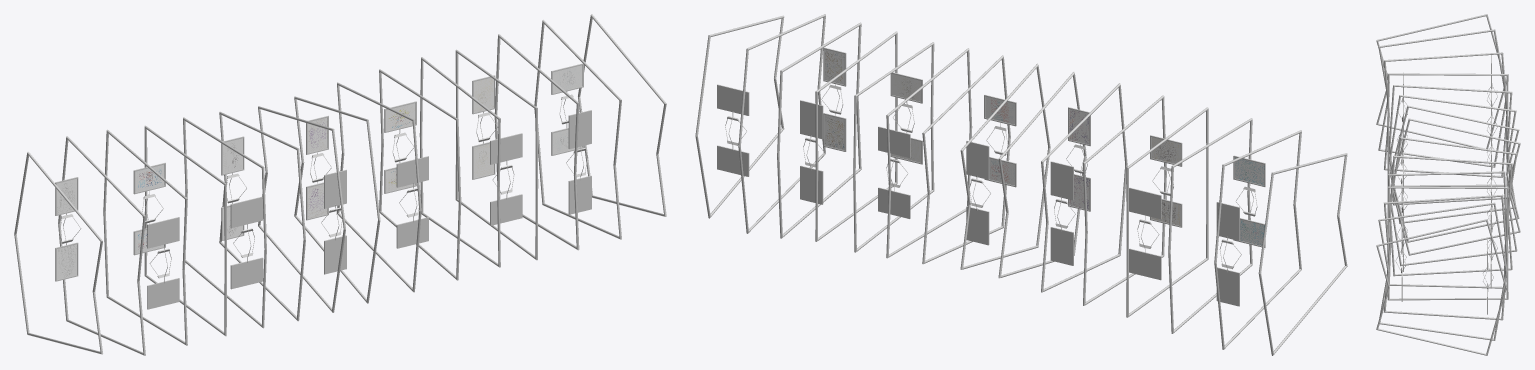
3 views of the same model, side by side, from view 1: azimuth 30°, elevation 25°; view 2: azimuth 150°, elevation 25°; view 3: azimuth 270°, elevation 25° (orthographic). The views are drawn at different scales.
Parts seen in each view (by area): view 1: Union.102_ID812, Union.095_ID755, Union.088_ID698, Union.081_ID641, Union.003_ID28, Union.001_ID14, Union.074_ID586, Union.078_ID614, Union.079_ID621, Union.075_ID593, Union.041_ID318, Union.002_ID21 (+21 smaller); view 2: Union.052_ID407, Union.066_ID528, Union.059_ID464, Union.077_ID607, Union.004_ID35, OuterShell_ID508, Union.074_ID586, Union.073_ID579, Union.075_ID593, Union.076_ID600, Union.072_ID572, Union.001_ID14 (+23 smaller); view 3: Union.073_ID579, Union.072_ID572, Union.001_ID14, Union.004_ID35, Union.079_ID621, Union.078_ID614, Union.002_ID21, Union.003_ID28, Union.075_ID593, Union.077_ID607, Union.041_ID318, Union.076_ID600 (+3 smaller).
Boxes of the visible parts, x1,y1,x2,y2 form: Union.102_ID812: [230, 196, 263, 289]; Union.095_ID755: [147, 217, 179, 309]; Union.088_ID698: [490, 133, 522, 225]; Union.081_ID641: [396, 156, 428, 248]; Union.003_ID28: [103, 129, 187, 345]; Union.001_ID14: [534, 19, 621, 239]; Union.074_ID586: [14, 151, 102, 354]; Union.078_ID614: [455, 49, 538, 260]; Union.079_ID621: [379, 69, 461, 280]; Union.075_ID593: [419, 57, 500, 267]; Union.041_ID318: [258, 106, 345, 312]; Union.002_ID21: [337, 82, 421, 292]; Union.052_ID407: [1129, 187, 1161, 280]; Union.066_ID528: [717, 84, 749, 176]; Union.059_ID464: [878, 126, 910, 218]; Union.077_ID607: [1214, 130, 1301, 349]; Union.004_ID35: [777, 22, 861, 238]; OuterShell_ID508: [1041, 83, 1127, 292]; Union.074_ID586: [1258, 153, 1347, 355]; Union.073_ID579: [1126, 107, 1208, 317]; Union.075_ID593: [853, 42, 934, 252]; Union.076_ID600: [960, 63, 1050, 269]; Union.072_ID572: [695, 15, 784, 218]; Union.001_ID14: [738, 14, 825, 233]; Union.073_ID579: [1387, 73, 1508, 186]; Union.072_ID572: [1376, 219, 1506, 355]; Union.001_ID14: [1378, 202, 1507, 340]; Union.004_ID35: [1383, 194, 1507, 320]; Union.079_ID621: [1390, 155, 1512, 276]; Union.078_ID614: [1387, 186, 1508, 300]; Union.002_ID21: [1391, 137, 1517, 266]; Union.003_ID28: [1384, 52, 1506, 177]; Union.075_ID593: [1388, 171, 1506, 288]; Union.077_ID607: [1378, 29, 1506, 167]; Union.041_ID318: [1390, 105, 1519, 242]; Union.076_ID600: [1393, 118, 1520, 255].
Size of the model in its own units: 52.4 by 16.41 by 15.56.
Materials: 27 (26 with a texture image).
